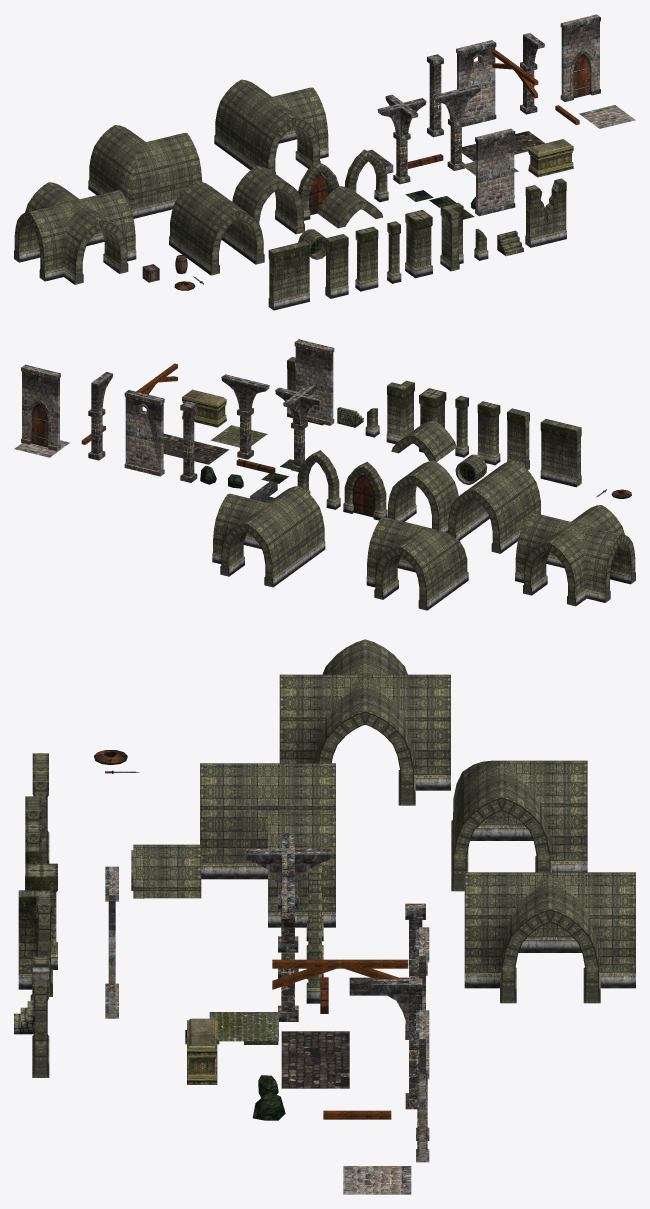
The model's file is opengameart-3d-walls-props.glb.
3 views of the same model, one above another, from view 1: azimuth 30°, elevation 25°; view 2: azimuth 150°, elevation 25°; view 3: azimuth 270°, elevation 25° (orthographic). The views are drawn at different scales.
Visible parts, largest first — view 1: arc_cross, arc_triple, arc_corner, arc_big, wall, arc_2, wall_windowed, wall_long, wall_doored, wall_long_broken, column_big, column_arc_full (+19 smaller); view 2: arc_cross, arc_triple, arc_corner, arc_big, wall_windowed, arc_2, wall, wall_long, wall_doored, wall_corner, column_arc_full, column_arc2 (+19 smaller); view 3: arc_triple, arc_cross, arc_corner, arc_big, arc_2, arc_003, wall_corner, column_arc_full, column_arc1, perekr, column_arc2, wall_long_broken (+13 smaller).
Part boxes in pixels (<box>): arc_cross: <box>14,182,136,284</box>; arc_triple: <box>214,79,328,173</box>; arc_corner: <box>88,125,202,218</box>; arc_big: <box>169,180,264,275</box>; wall: <box>475,128,515,216</box>; arc_2: <box>232,166,304,234</box>; wall_windowed: <box>456,40,496,127</box>; wall_long: <box>268,241,309,310</box>; wall_doored: <box>560,14,600,101</box>; wall_long_broken: <box>525,178,566,247</box>; column_big: <box>405,210,432,278</box>; column_arc_full: <box>377,94,426,184</box>; arc_cross: <box>515,505,635,606</box>; arc_triple: <box>212,486,325,587</box>; arc_corner: <box>366,517,468,610</box>; arc_big: <box>447,460,540,553</box>; wall_windowed: <box>124,390,164,476</box>; arc_2: <box>388,460,458,533</box>; wall: <box>294,339,334,425</box>; wall_long: <box>540,419,581,487</box>; wall_doored: <box>21,364,60,451</box>; wall_corner: <box>386,380,414,444</box>; column_arc_full: <box>275,384,323,471</box>; column_arc2: <box>221,374,269,459</box>; arc_triple: <box>464,872,635,1003</box>; arc_cross: <box>279,639,450,805</box>; arc_corner: <box>451,760,587,891</box>; arc_big: <box>200,763,335,879</box>; arc_2: <box>268,812,335,927</box>; arc_003: <box>133,844,201,898</box>; wall_corner: <box>18,890,52,996</box>; column_arc_full: <box>246,833,330,978</box>; column_arc1: <box>373,978,422,1109</box>; perekr: <box>272,959,408,989</box>; column_arc2: <box>278,876,298,1021</box>; wall_long_broken: <box>32,956,49,1077</box>.
Bounding box in the file's own units: 33.09 × 6.14 × 18.29.
Materials: 14 (14 with a texture image).
